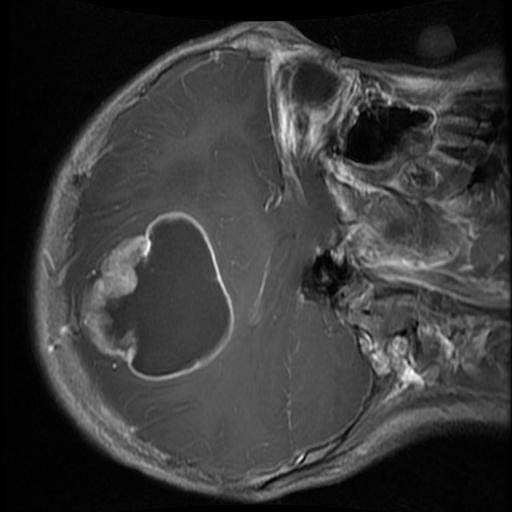glioma: (80, 206, 240, 383)
